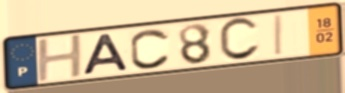8: (176, 22, 214, 66)
A: (79, 32, 132, 77)
C: (216, 16, 263, 63), (128, 27, 173, 70)
H: (35, 32, 86, 84)
I: (273, 12, 286, 58)
